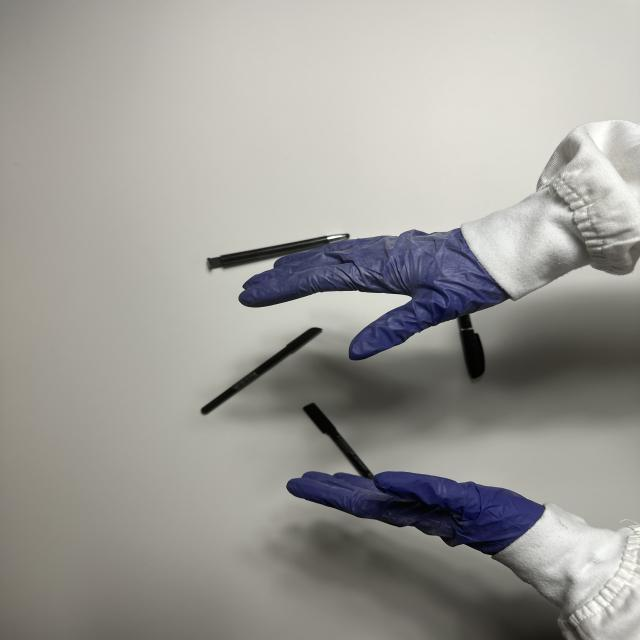gloves_contaminated: (240, 229, 508, 360), (287, 472, 543, 554)
